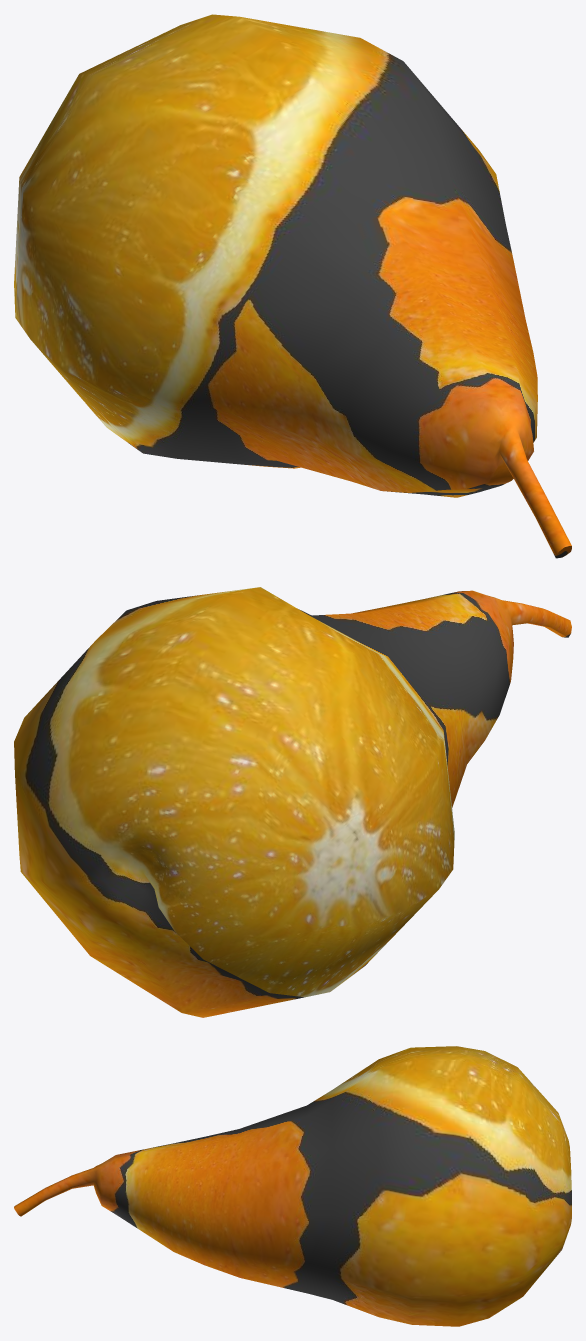
3 views of the same model, one above another, from view 1: azimuth 30°, elevation 25°; view 2: azimuth 150°, elevation 25°; view 3: azimuth 270°, elevation 25° (orthographic). The views are drawn at different scales.
Size of the model in its own units: 0.5329 by 0.517 by 1.
